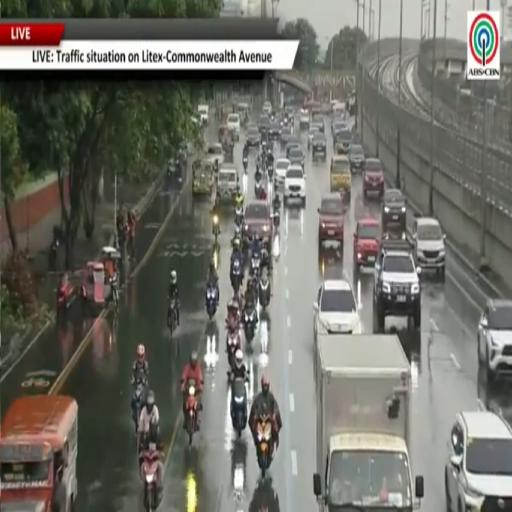car: (445, 408, 511, 511), (374, 240, 421, 332), (314, 279, 361, 340), (478, 299, 511, 381), (412, 217, 445, 279), (318, 192, 345, 250), (243, 200, 272, 251), (354, 217, 380, 273), (382, 189, 406, 233), (284, 163, 306, 206), (216, 164, 239, 203), (363, 158, 384, 198), (349, 144, 365, 173), (275, 158, 290, 185), (206, 143, 224, 165), (226, 113, 240, 141), (334, 131, 351, 154), (331, 119, 348, 141), (312, 133, 326, 159), (288, 148, 305, 168), (246, 125, 260, 148), (286, 137, 301, 157), (280, 125, 293, 147), (308, 126, 319, 149), (269, 119, 281, 140), (197, 104, 209, 125), (332, 102, 346, 118), (258, 115, 269, 135), (299, 108, 309, 129), (310, 119, 324, 133), (330, 99, 340, 114), (262, 102, 272, 116), (285, 106, 294, 121)
jeepney: (330, 155, 351, 197), (192, 159, 214, 196)
motorcycle: (141, 444, 159, 511), (256, 414, 273, 477), (231, 378, 247, 438), (186, 380, 198, 445), (132, 380, 146, 434), (227, 330, 241, 374), (243, 308, 256, 344), (230, 258, 242, 293), (259, 274, 270, 311), (168, 298, 178, 338), (206, 286, 217, 319), (48, 239, 59, 271), (108, 276, 118, 310), (250, 254, 260, 277), (212, 215, 220, 242), (234, 205, 244, 226), (271, 210, 279, 230), (255, 180, 263, 199), (268, 164, 273, 180), (243, 156, 248, 172)
truck: (313, 333, 423, 511)
